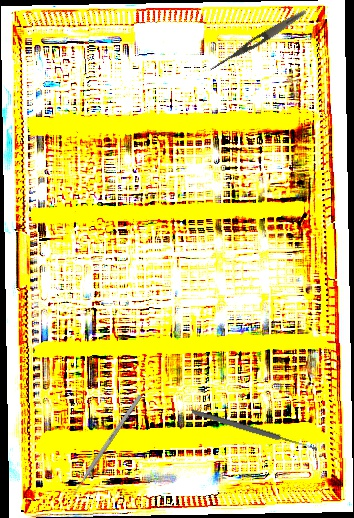Dressing Forceps: (207, 7, 309, 75)
Pusher: (67, 393, 143, 502)
Surgical Spoon: (190, 408, 319, 453)
